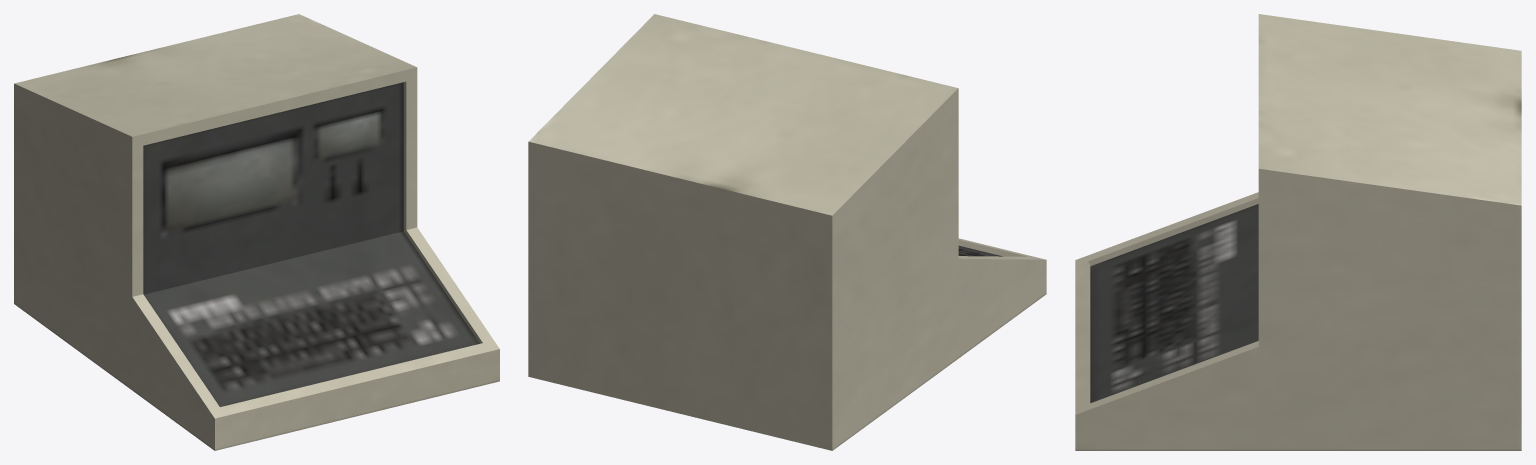
The model's file is ComputerTerminal.fbx.
3 renders of one model, left to right at view 1: azimuth 30°, elevation 25°; view 2: azimuth 150°, elevation 25°; view 3: azimuth 270°, elevation 25°, orthographic. The views are drawn at different scales.
Parts seen in each view (by area): view 1: Computer_Terminal; view 2: Computer_Terminal; view 3: Computer_Terminal.
Boxes of the visible parts, left/top/right/bottom form: Computer_Terminal: left=14, top=14, right=499, bottom=450; Computer_Terminal: left=528, top=14, right=1046, bottom=450; Computer_Terminal: left=1075, top=14, right=1521, bottom=450.
Size of the model in its own units: 49.28 by 41.92 by 60.12.
